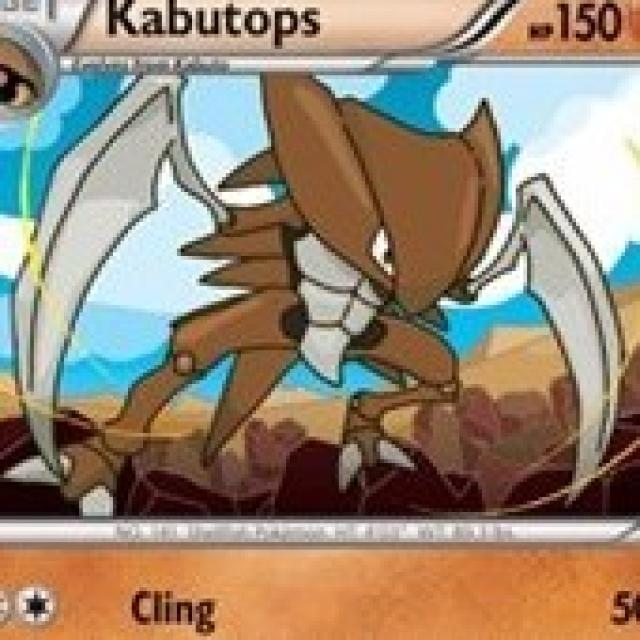Kabutops: (88, 96, 590, 496)
